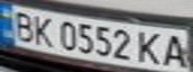0: (54, 18, 78, 52)
2: (112, 26, 136, 62)
5: (90, 24, 115, 58), (75, 20, 96, 55)
A: (160, 31, 190, 69)
B: (6, 9, 39, 43)
K: (133, 29, 166, 65), (27, 14, 57, 47)
